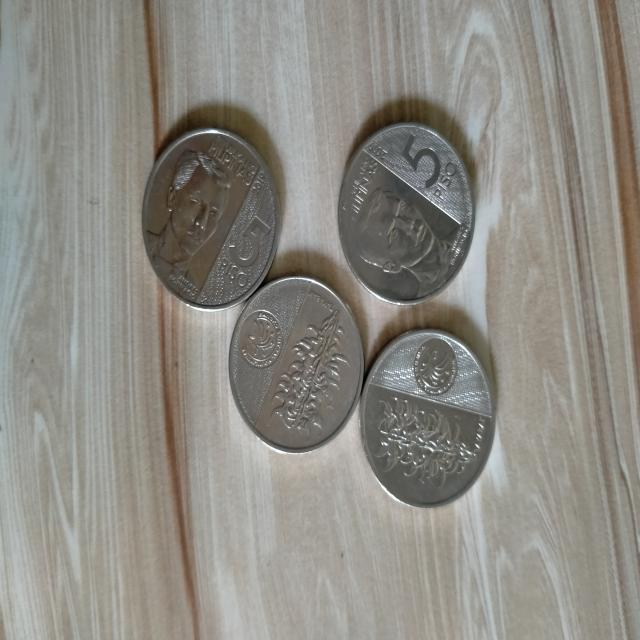5_New_Back: (265, 295, 356, 443), (372, 389, 483, 498)
5_New_Front: (212, 212, 274, 300), (404, 125, 463, 217)
